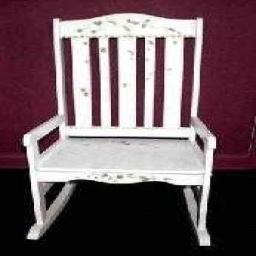Chair: (23, 14, 217, 250)
